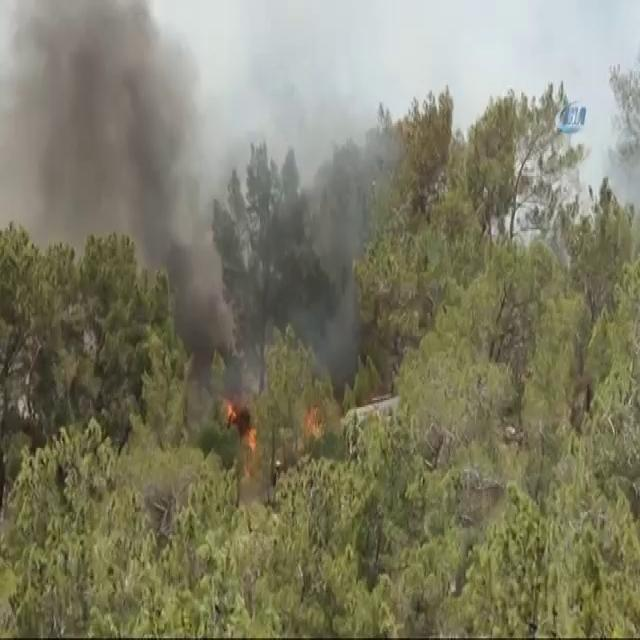Fire: (226, 398, 261, 451), (301, 402, 320, 434)
Smoke: (3, 5, 209, 256), (240, 142, 385, 340)
